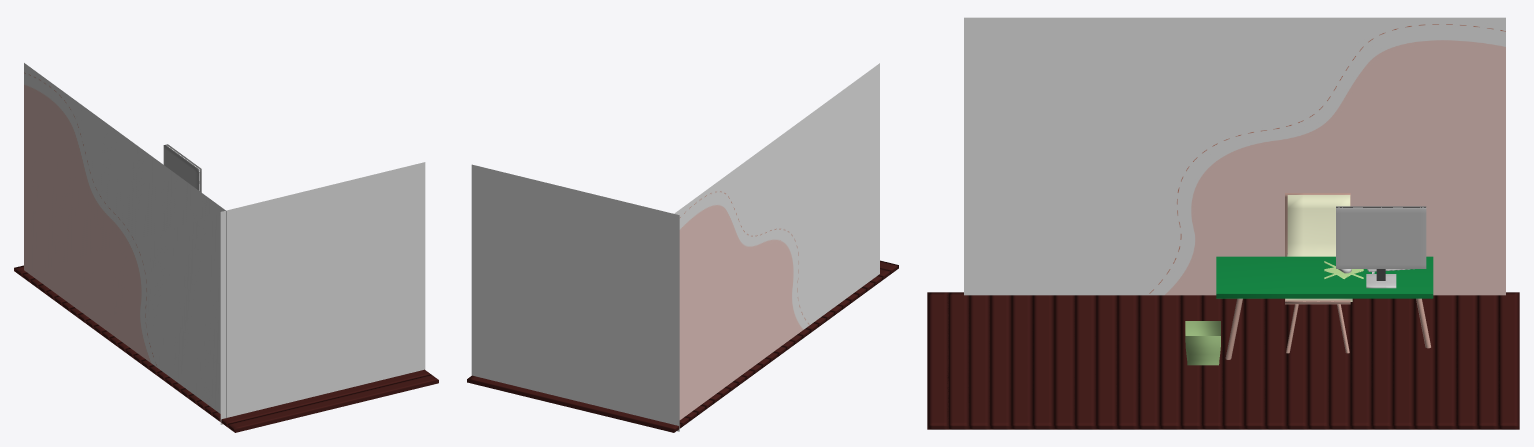
Rendered from office.glb.
3 views of the same model, side by side, from view 1: azimuth 30°, elevation 25°; view 2: azimuth 150°, elevation 25°; view 3: azimuth 270°, elevation 25° (orthographic). The views are drawn at different scales.
Parts seen in each view (by area): view 1: Plane.003, Plane.001, Plane.026, Plane.027, Cube.003; view 2: Plane.002, Plane.001, Plane.025; view 3: Plane.001, Cube, Cube.003, Cube.013, Plane.026, Plane.025, Plane.015, Plane.012, Plane.016, Plane.017, Plane.031, Plane.030 (+22 smaller).
Boxes of the visible parts, x1,y1,x2,y2 form: Plane.003: (220, 162, 425, 424); Plane.001: (24, 63, 226, 418); Plane.026: (227, 374, 438, 432); Plane.027: (220, 369, 430, 426); Cube.003: (163, 144, 201, 192); Plane.002: (471, 164, 679, 431); Plane.001: (674, 63, 879, 419); Plane.025: (467, 375, 682, 432); Plane.001: (964, 17, 1505, 295); Cube: (1216, 256, 1433, 298); Cube.003: (1336, 206, 1426, 268); Cube.013: (1285, 195, 1352, 301); Plane.026: (927, 292, 948, 429); Plane.025: (1498, 292, 1519, 429); Plane.015: (1116, 295, 1138, 429); Plane.012: (1053, 295, 1074, 429); Plane.016: (1138, 295, 1159, 429); Plane.017: (1159, 295, 1180, 429); Plane.031: (1032, 295, 1053, 429); Plane.030: (1010, 295, 1032, 429).
Size of the model in its own units: 4.69 by 4.69 by 8.77.
9 materials, 1 textured.
